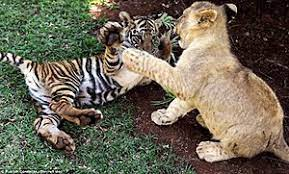lion: (145, 1, 289, 163)
tiger: (1, 5, 176, 154)
